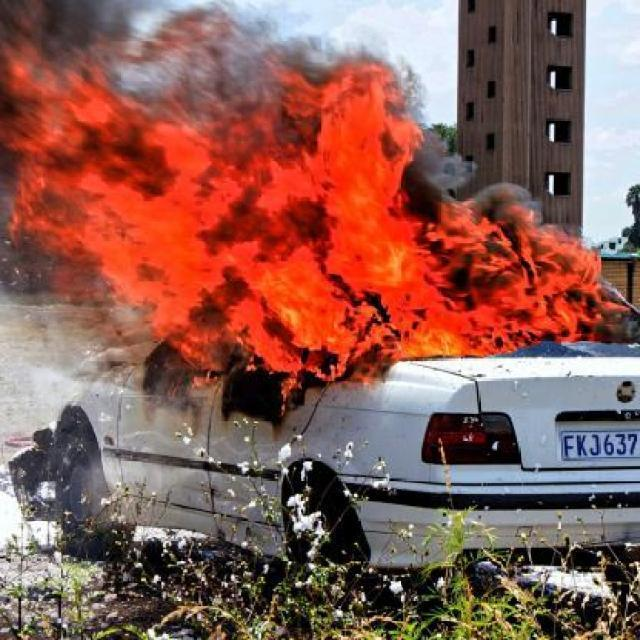Fire: (0, 0, 601, 374)
